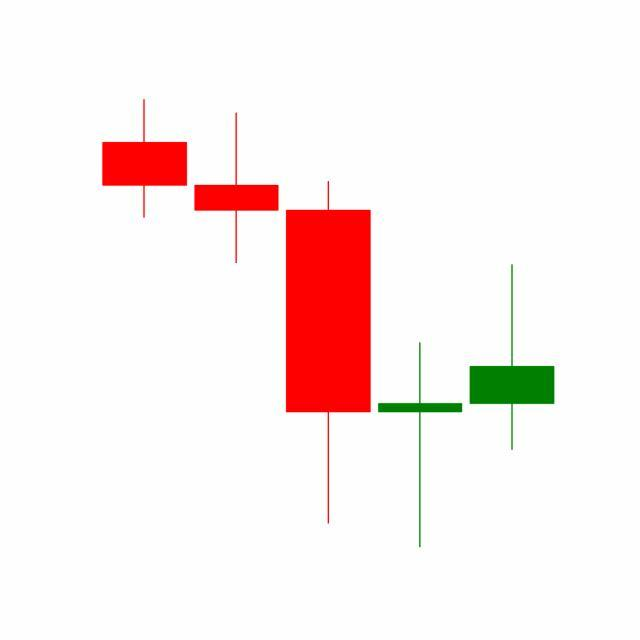Spinning Top: (374, 341, 468, 551)
